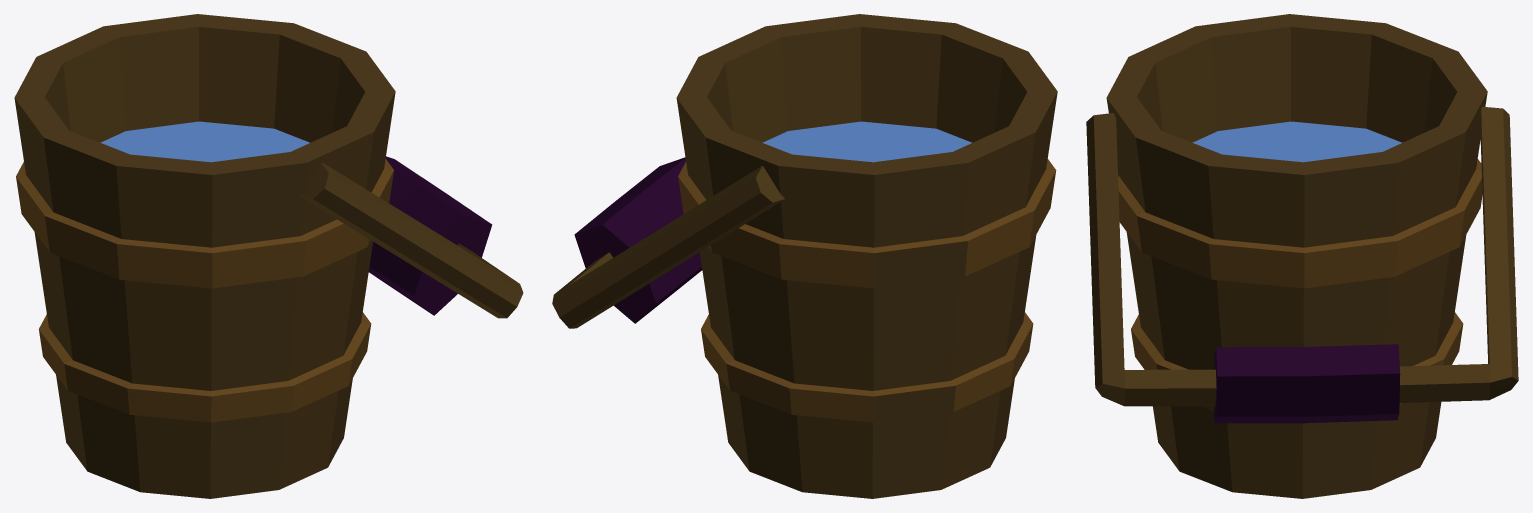
File: wooden_bucket_water.fbx
The picture shows the model from 3 angles, left to right: view 1: azimuth 30°, elevation 25°; view 2: azimuth 150°, elevation 25°; view 3: azimuth 270°, elevation 25°; orthographic projection.
Parts seen in each view (by area): view 1: wooden_bucket_water; view 2: wooden_bucket_water; view 3: wooden_bucket_water.
Boxes of the visible parts, x1,y1,x2,y2 form: wooden_bucket_water: (14,14,523,498); wooden_bucket_water: (552,14,1057,498); wooden_bucket_water: (1086,14,1518,498).
Bounding box in the file's own units: 71.27 × 57.08 × 64.68.
